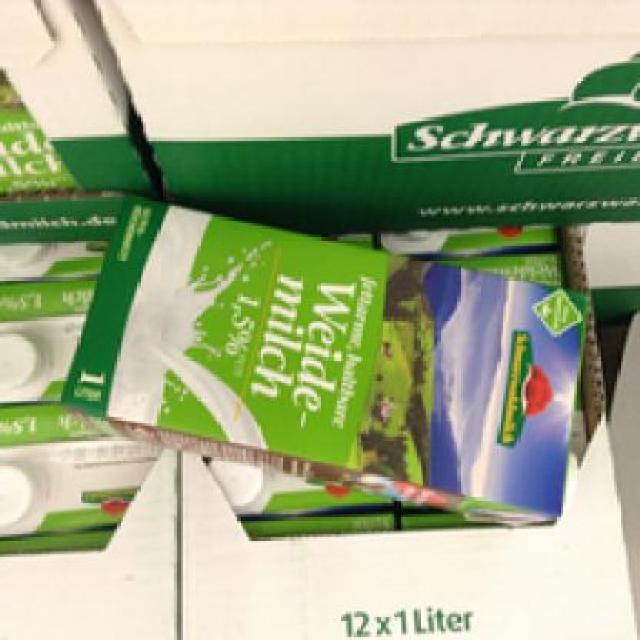Milk: (40, 192, 603, 528)
